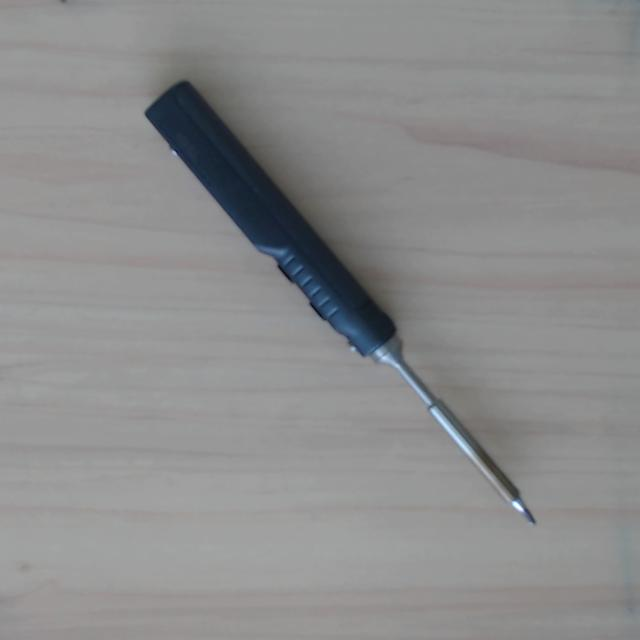Soldering-Iron: (139, 76, 552, 545)
